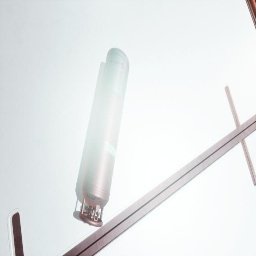NitrogenTank ,: (79, 48, 129, 227)
